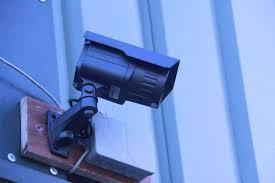Security camera: (45, 29, 180, 158), (72, 29, 180, 109)
